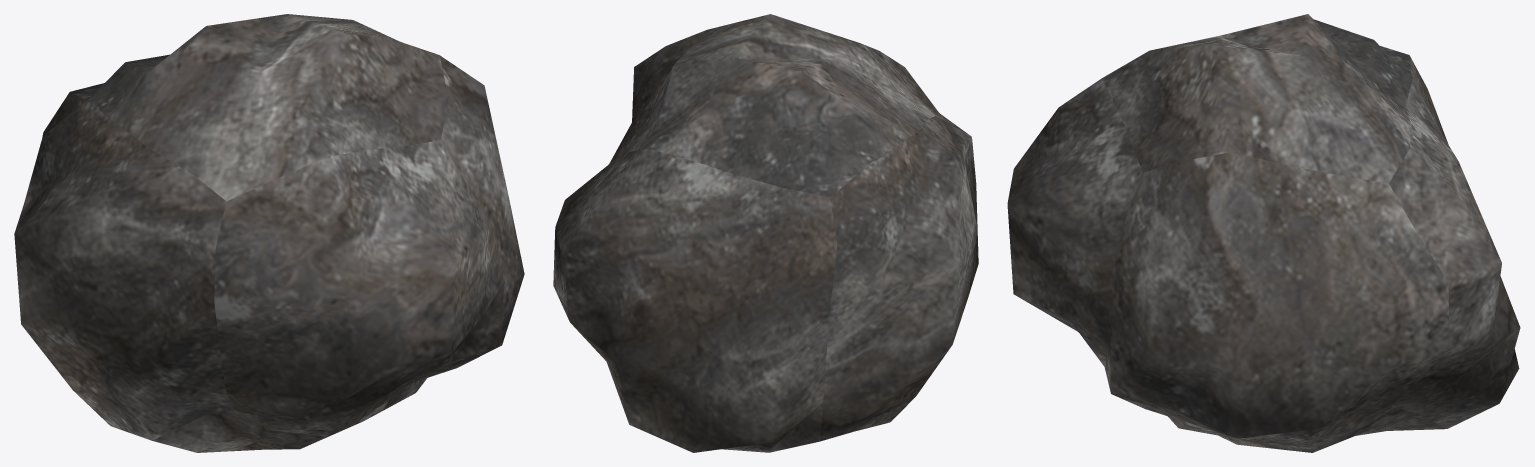
File: Rock2.FBX
3 renders of one model, left to right at view 1: azimuth 30°, elevation 25°; view 2: azimuth 150°, elevation 25°; view 3: azimuth 270°, elevation 25°, orthographic. The views are drawn at different scales.
Parts seen in each view (by area): view 1: rockLP001; view 2: rockLP001; view 3: rockLP001.
Part boxes in pixels (x1=…): rockLP001: x1=14, y1=14, x2=524, y2=452; rockLP001: x1=553, y1=14, x2=978, y2=452; rockLP001: x1=1007, y1=14, x2=1520, y2=452.
Bounding box in the file's own units: 2.45 × 2.27 × 2.63.
1 material, 1 textured.
